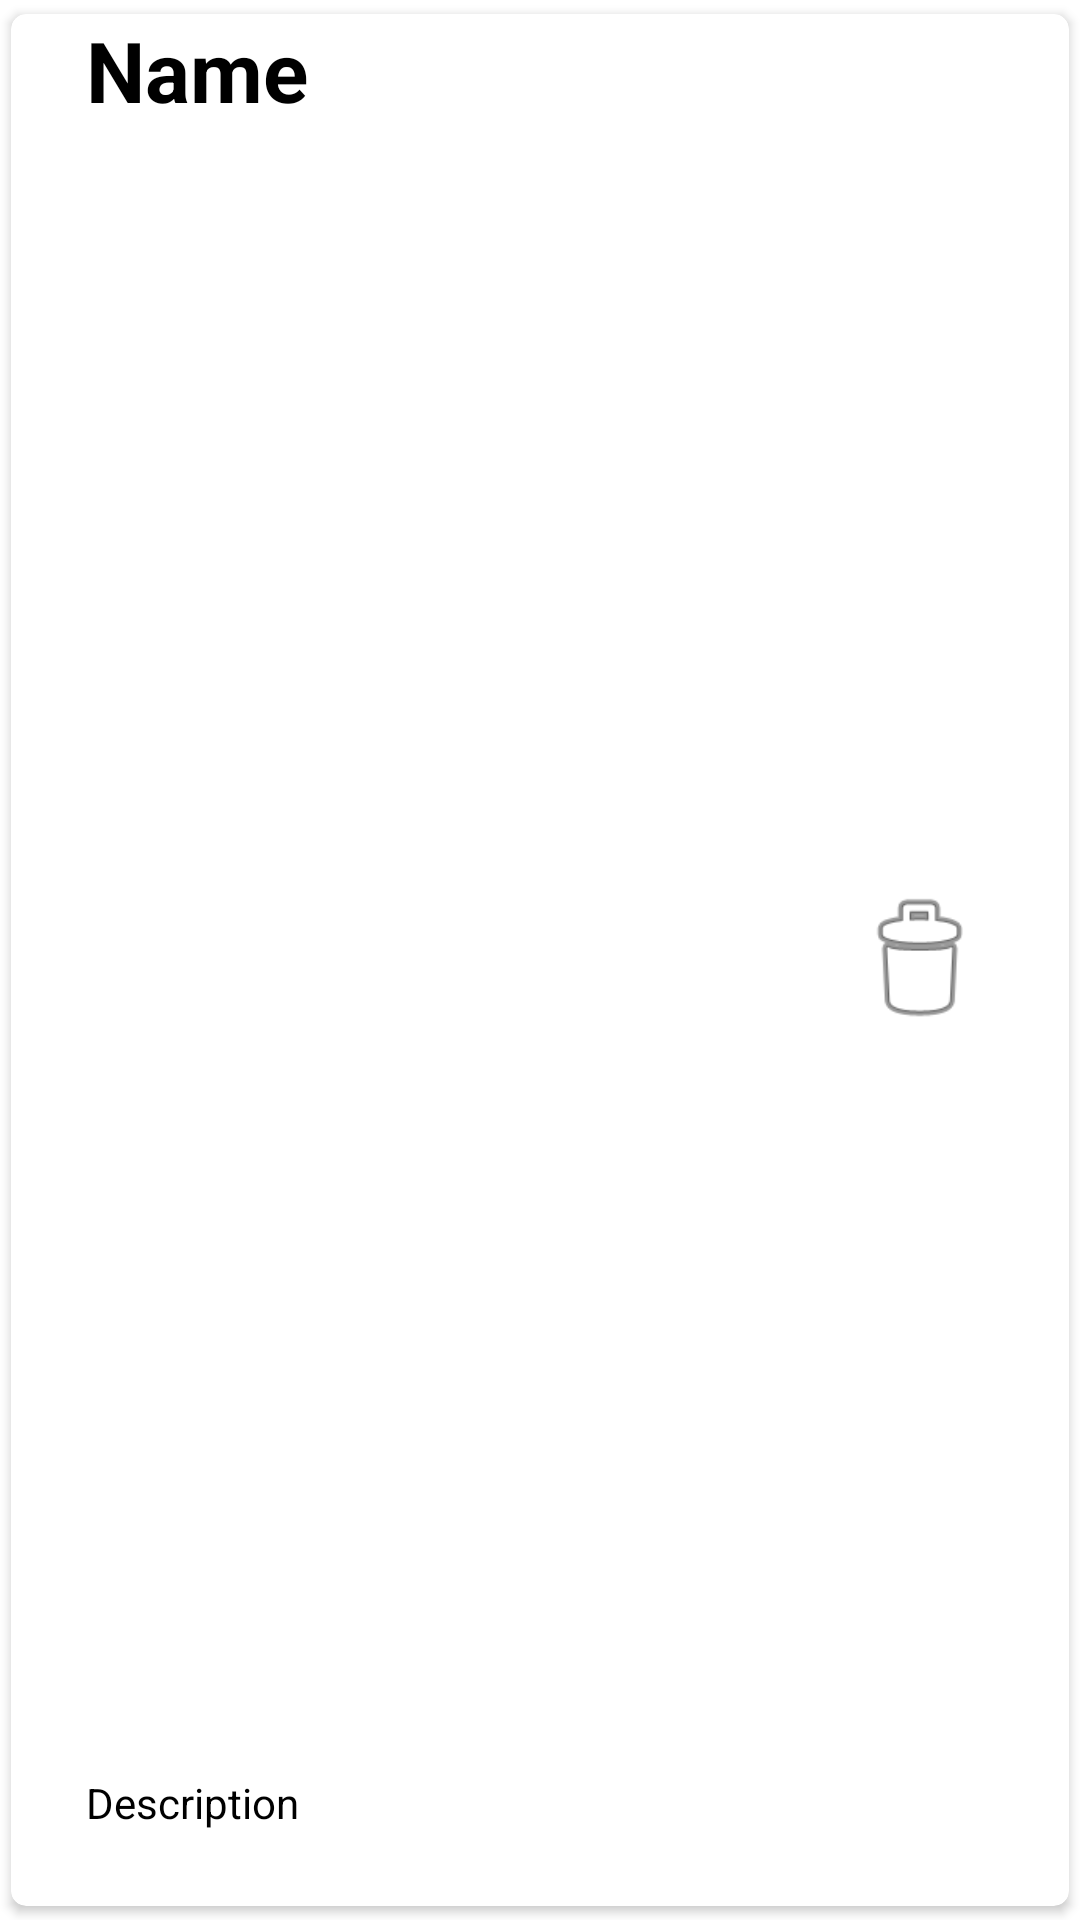

Screen size 1080x1920. Icon name, then its center in pixels as (x,y):
delete: (919,957)
